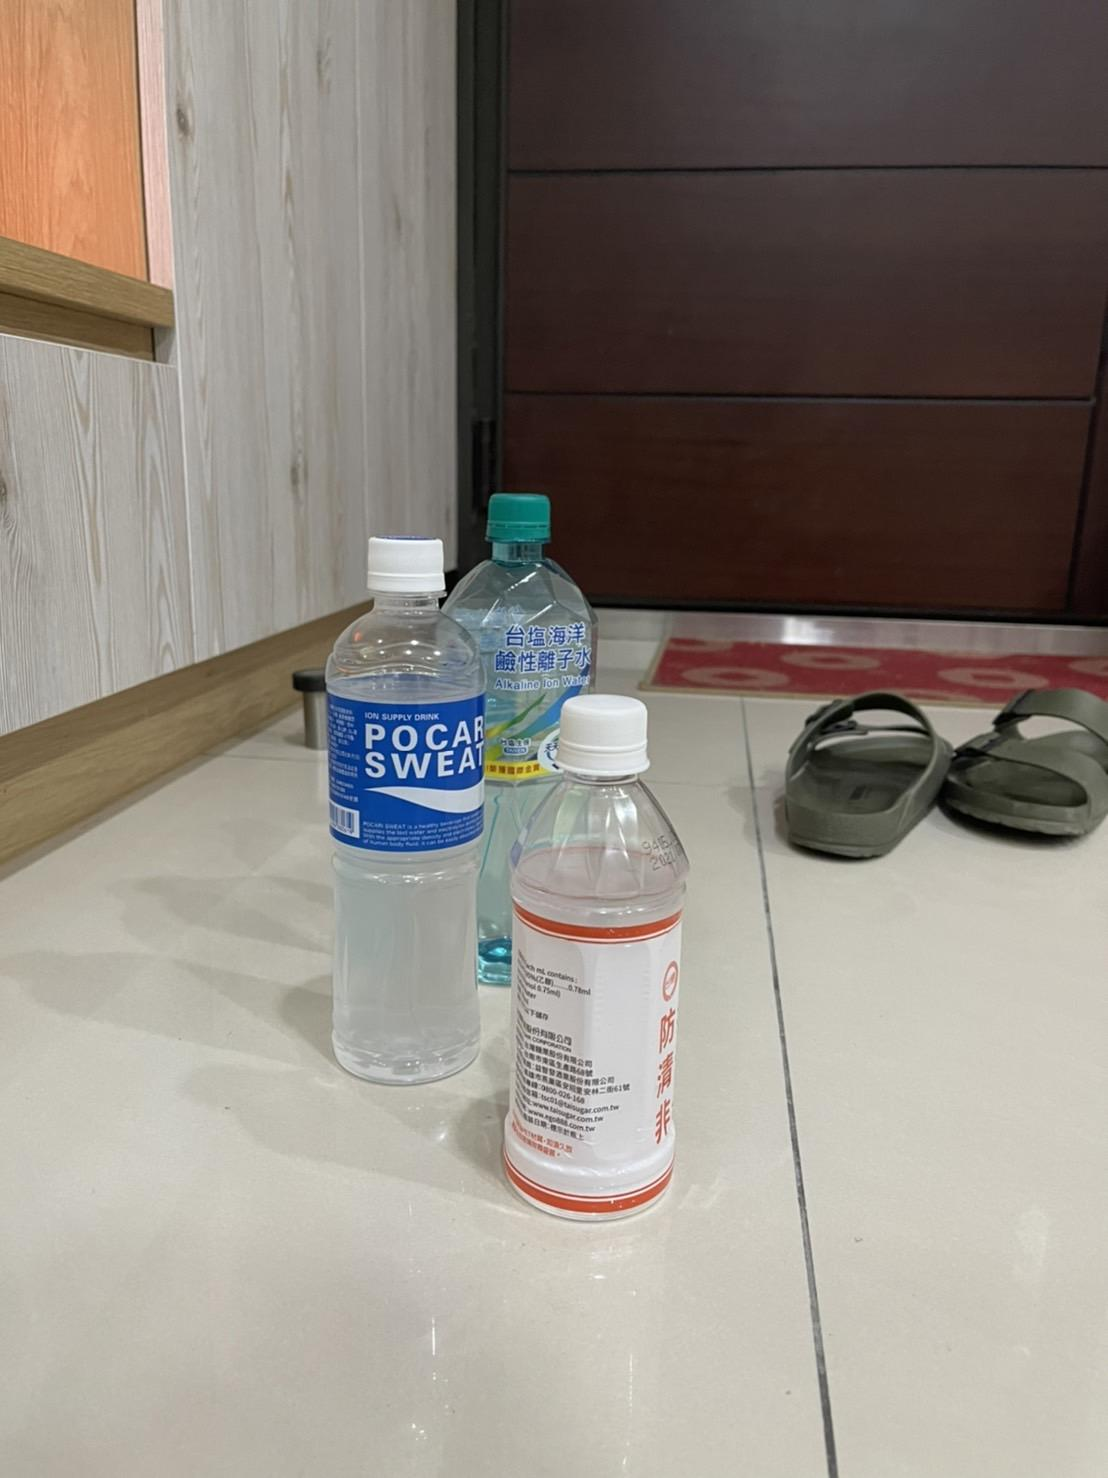plastic_bottle: (514, 687, 696, 1218), (317, 537, 477, 1074), (460, 486, 578, 987)
